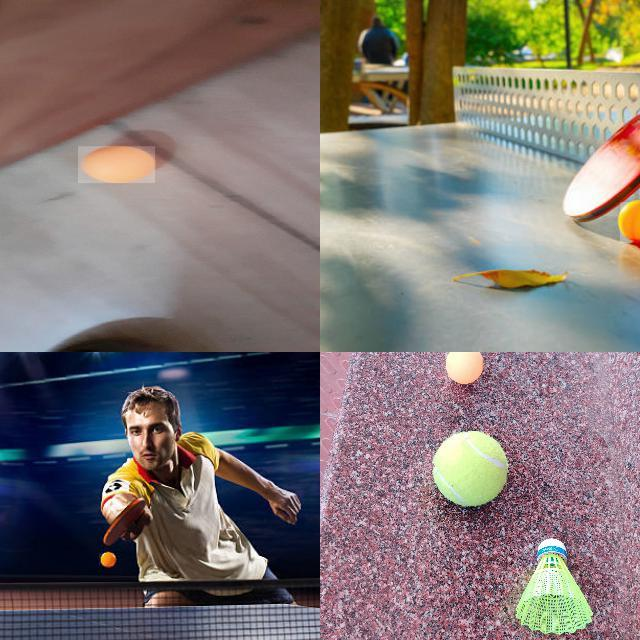ping-pong-ball: (78, 146, 156, 184), (445, 352, 484, 387), (620, 202, 639, 245), (99, 553, 115, 567)
